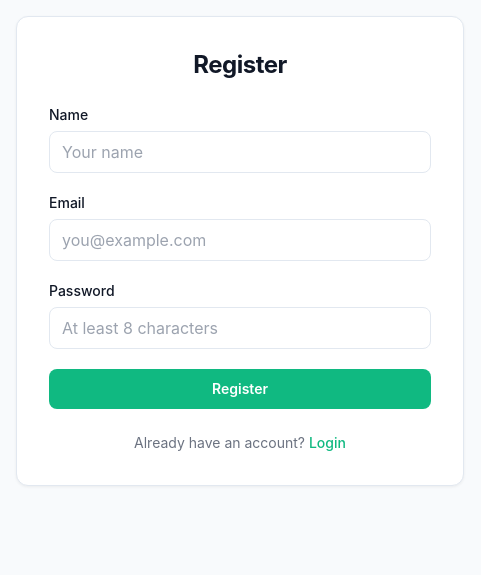
it: RegisterPage › shows validation errors for empty fields
Click the button "Register" at (240, 389), box [49, 369, 431, 409]
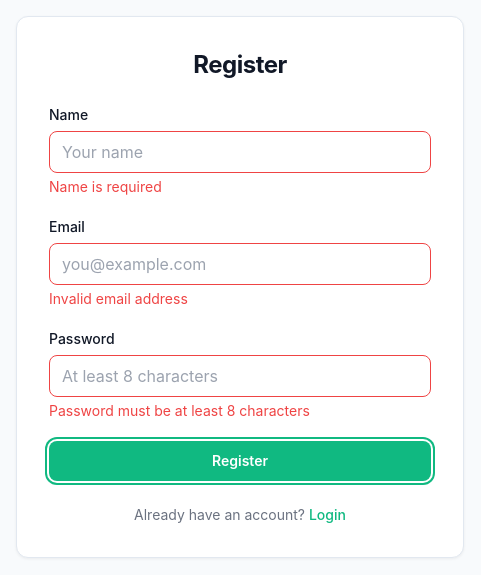
expect the text "Name is required" is shown: met, box [49, 178, 162, 195]
expect the text "Invalid email address" is shown: met, box [49, 290, 188, 307]
expect the text "Password must be at least 8 characters" is shown: met, box [49, 402, 310, 419]
